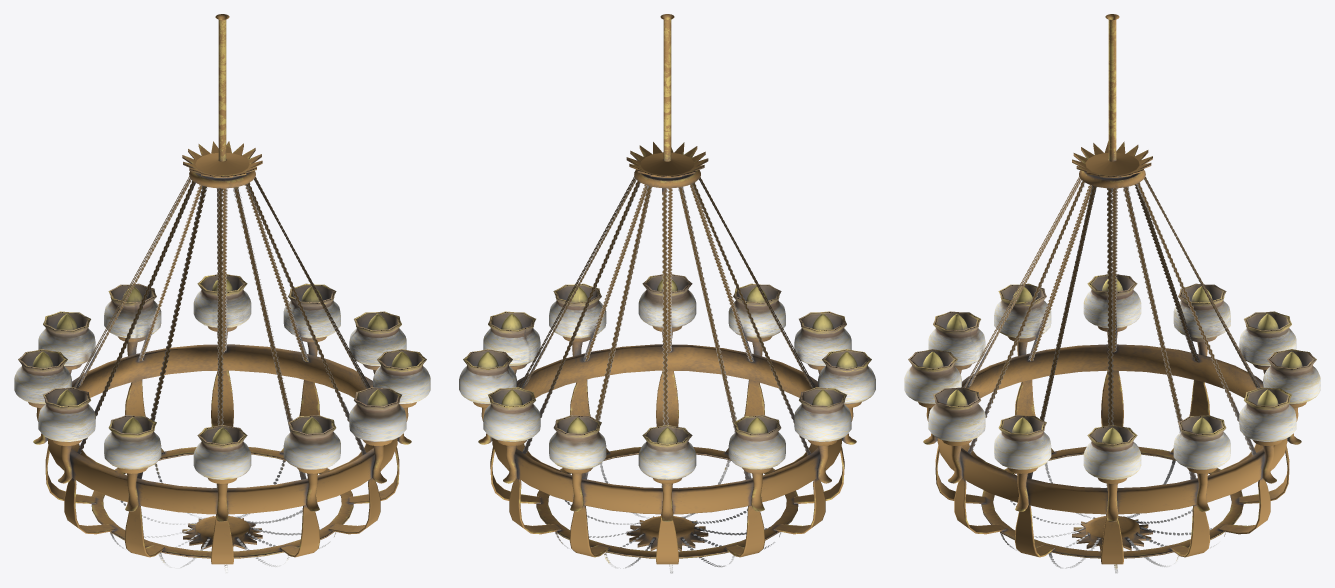
The model's file is chandelier.fbx.
The picture shows the model from 3 angles, left to right: view 1: azimuth 30°, elevation 25°; view 2: azimuth 150°, elevation 25°; view 3: azimuth 270°, elevation 25°; orthographic projection.
Parts seen in each view (by area): view 1: obj1; view 2: obj1; view 3: obj1.
Boxes of the visible parts, x1=… form: obj1: x1=14, y1=14, x2=430, y2=573; obj1: x1=459, y1=14, x2=875, y2=573; obj1: x1=904, y1=14, x2=1320, y2=573.
Size of the model in its own units: 24924 by 34345 by 24924.
Materials: 1 (1 with a texture image).
